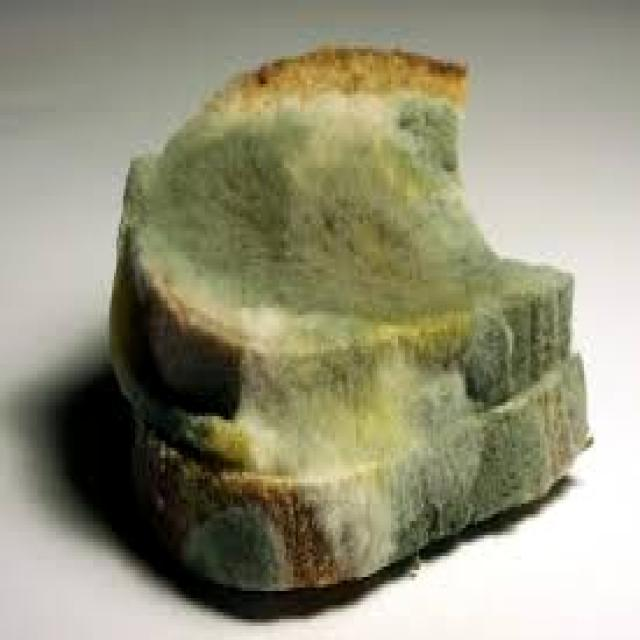Trash: (105, 41, 596, 598)
